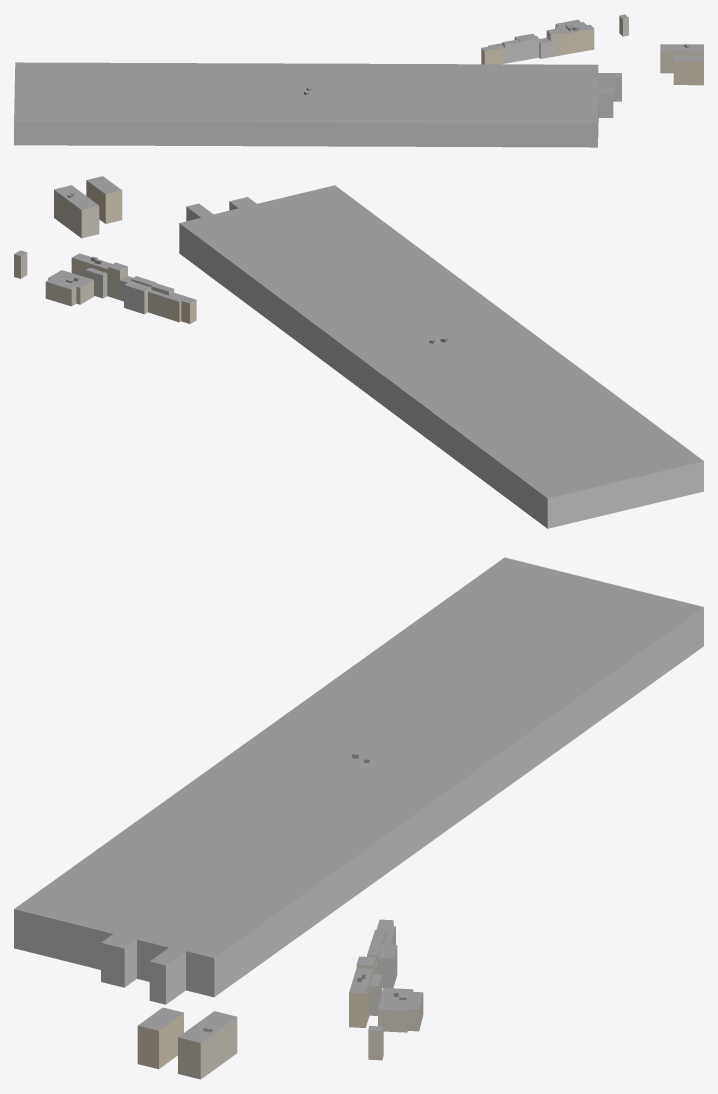
Rendered from building_2_0.glb.
The picture shows the model from 3 angles, top to bottom: view 1: azimuth 30°, elevation 25°; view 2: azimuth 150°, elevation 25°; view 3: azimuth 270°, elevation 25°; orthographic projection. The views are drawn at different scales.
Parts seen in each view (by area): view 1: roof, concrete_light, sandstone, concrete_warm; view 2: roof, concrete_light, concrete_warm, sandstone; view 3: roof, concrete_light, concrete_warm, sandstone.
Part boxes in pixels (<box>): roof: <box>14,14,703,123</box>; concrete_light: <box>14,37,621,147</box>; sandstone: <box>481,28,703,85</box>; concrete_warm: <box>546,16,703,73</box>; roof: <box>14,176,703,498</box>; concrete_light: <box>85,201,703,528</box>; concrete_warm: <box>14,190,169,319</box>; sandstone: <box>71,180,196,323</box>; roof: <box>14,557,703,1042</box>; concrete_light: <box>14,607,703,1015</box>; concrete_warm: <box>178,933,423,1079</box>; sandstone: <box>137,921,395,1069</box>.
Size of the model in its own units: 402 by 16.77 by 243.
